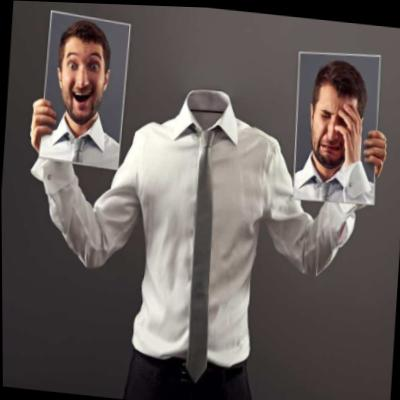happy: (57, 38, 108, 124)
sad: (308, 78, 359, 165)
